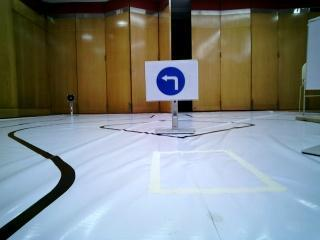left: (146, 62, 197, 102)
